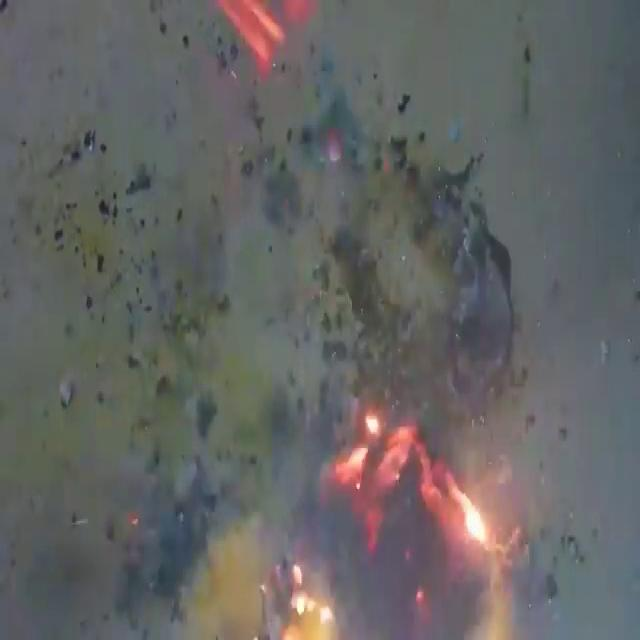Fire: (223, 338, 531, 640)
